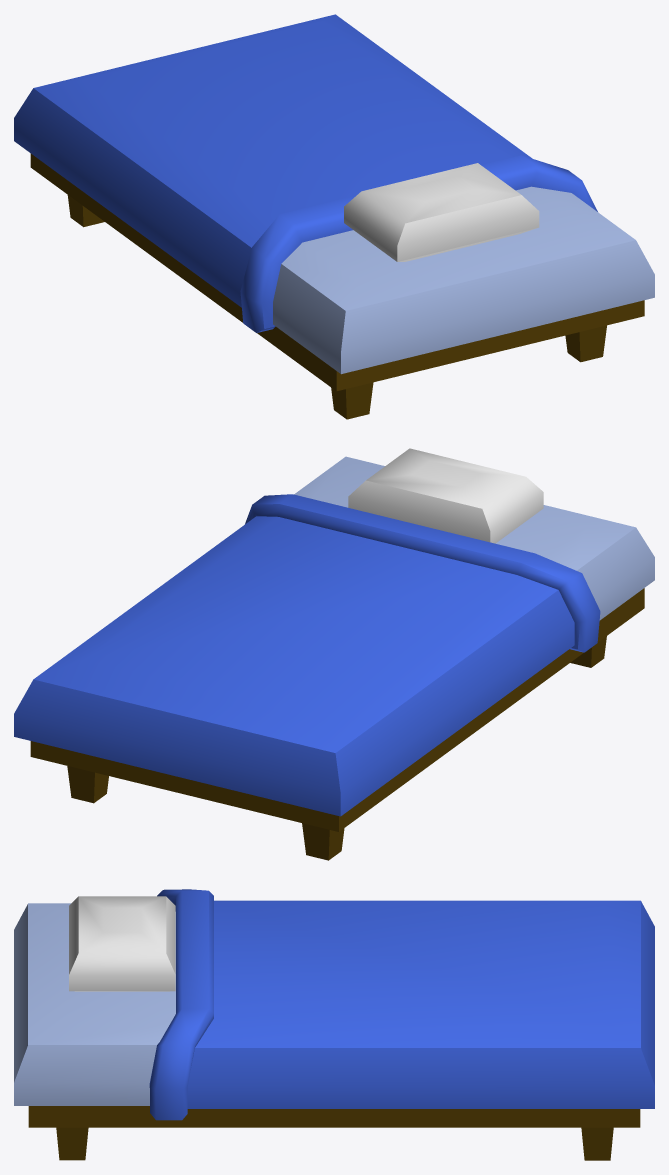
Rendered from bedtest.fbx.
The picture shows the model from 3 angles, top to bottom: view 1: azimuth 30°, elevation 25°; view 2: azimuth 150°, elevation 25°; view 3: azimuth 270°, elevation 25°; orthographic projection.
Parts seen in each view (by area): view 1: Bed; view 2: Bed; view 3: Bed.
Boxes of the visible parts, left/top/right/bottom form: Bed: left=14, top=14, right=654, bottom=419; Bed: left=14, top=448, right=654, bottom=860; Bed: left=14, top=889, right=654, bottom=1160.
Bounding box in the file's own units: 157 × 76.57 × 252.
